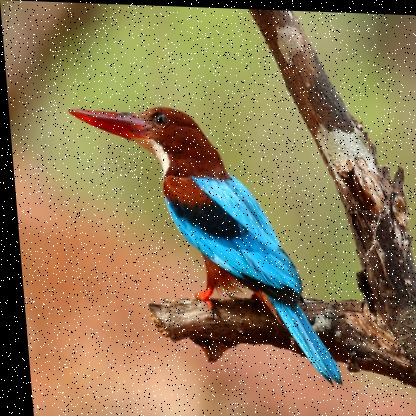Burung: (66, 101, 338, 384)
